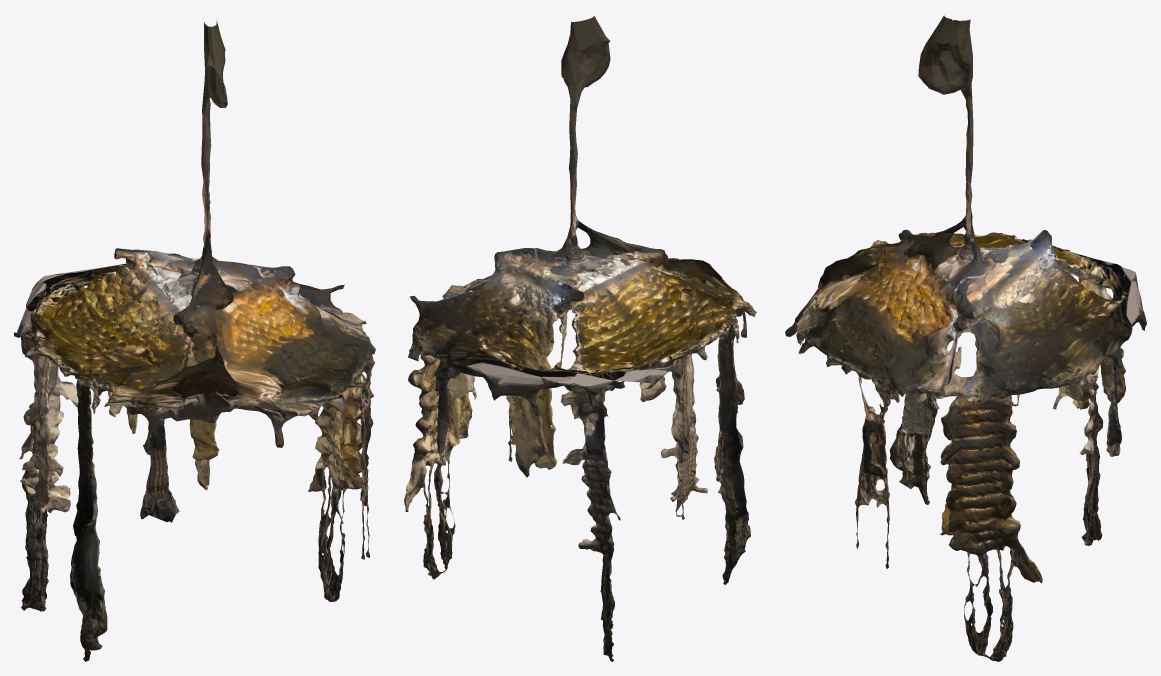
Rendered from weblampe.web.glb.
3 renders of one model, left to right at view 1: azimuth 30°, elevation 25°; view 2: azimuth 150°, elevation 25°; view 3: azimuth 270°, elevation 25°, orthographic. The views are drawn at different scales.
Bounding box in the file's own units: 0.9955 × 1.86 × 1.05.
Materials: 1 (1 with a texture image).
